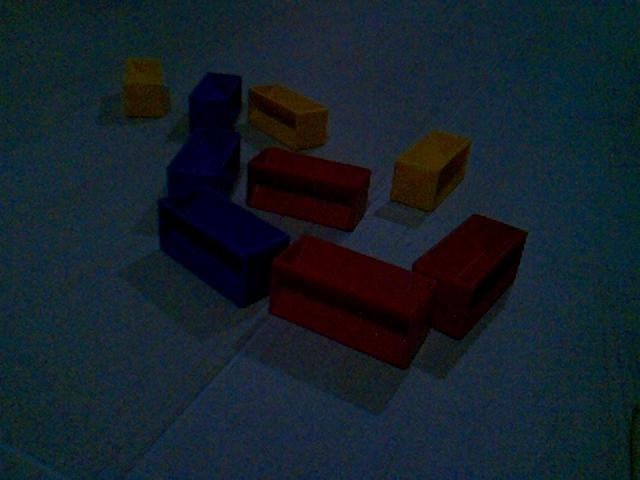blue: (156, 186, 291, 308), (166, 125, 243, 198), (187, 70, 244, 132)
red: (267, 232, 437, 371), (412, 211, 530, 341), (245, 145, 373, 233)
yellow: (389, 128, 473, 213), (246, 81, 330, 151), (120, 55, 172, 120)
